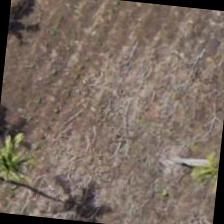Kelapa_Sawit: (161, 130, 223, 223), (0, 122, 57, 219)
